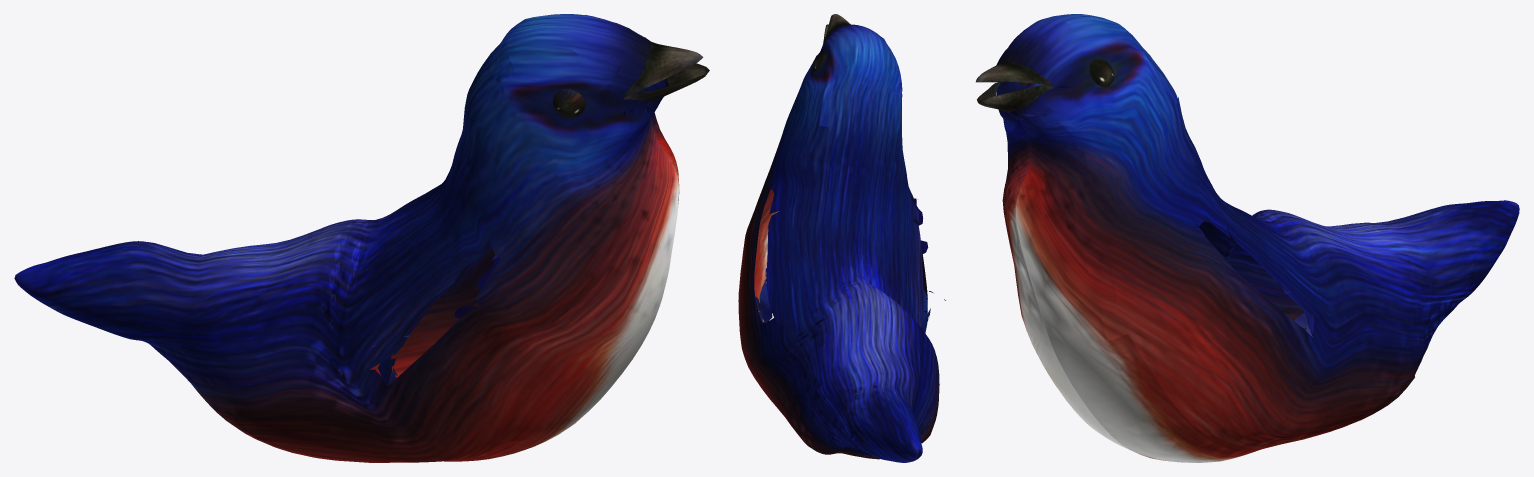
The model's file is CuerpoPajaro2.obj.
The picture shows the model from 3 angles, left to right: view 1: azimuth 30°, elevation 25°; view 2: azimuth 150°, elevation 25°; view 3: azimuth 270°, elevation 25°; orthographic projection. The views are drawn at different scales.
Visible parts, largest first — view 1: pajaro_azul.001; view 2: pajaro_azul.001; view 3: pajaro_azul.001.
Boxes of the visible parts, <box> form: pajaro_azul.001: <box>14,14,709,462</box>; pajaro_azul.001: <box>738,14,945,462</box>; pajaro_azul.001: <box>976,14,1519,462</box>.
Size of the model in its own units: 19.15 by 20.19 by 21.66.
Materials: 1 (1 with a texture image).
